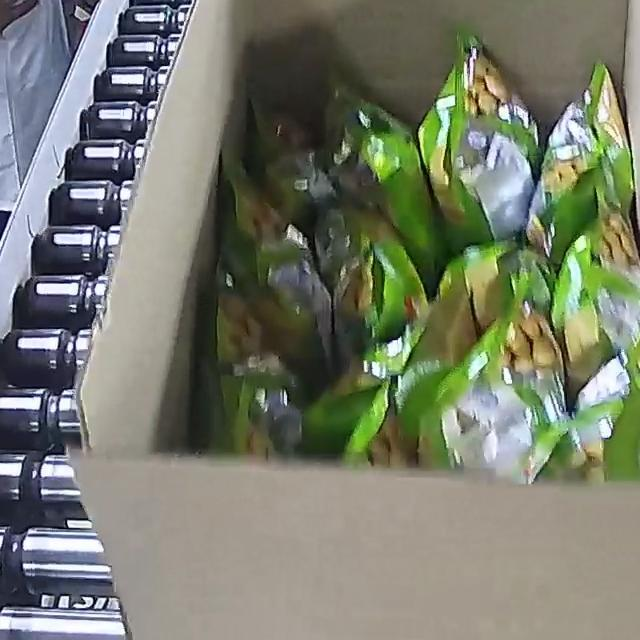yogurt: (209, 29, 640, 486)
